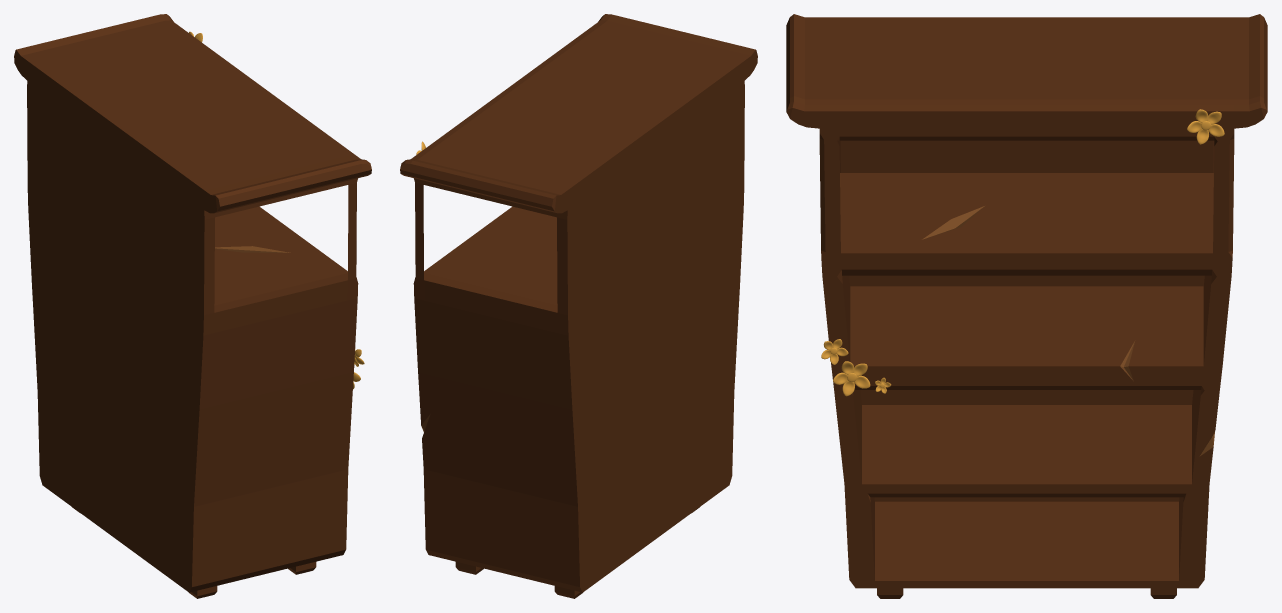
Rendered from Cupboard.fbx.
The picture shows the model from 3 angles, left to right: view 1: azimuth 30°, elevation 25°; view 2: azimuth 150°, elevation 25°; view 3: azimuth 270°, elevation 25°; orthographic projection. The views are drawn at different scales.
Parts seen in each view (by area): view 1: Cupoard; view 2: Cupoard; view 3: Cupoard, Flower.006.
Part boxes in pixels (x1=…): Cupoard: x1=14, y1=14, x2=371, y2=598; Cupoard: x1=400, y1=14, x2=757, y2=598; Cupoard: x1=786, y1=14, x2=1267, y2=598; Flower.006: x1=821, y1=109, x2=1224, y2=396.
Size of the model in its own units: 160 by 410 by 352.
